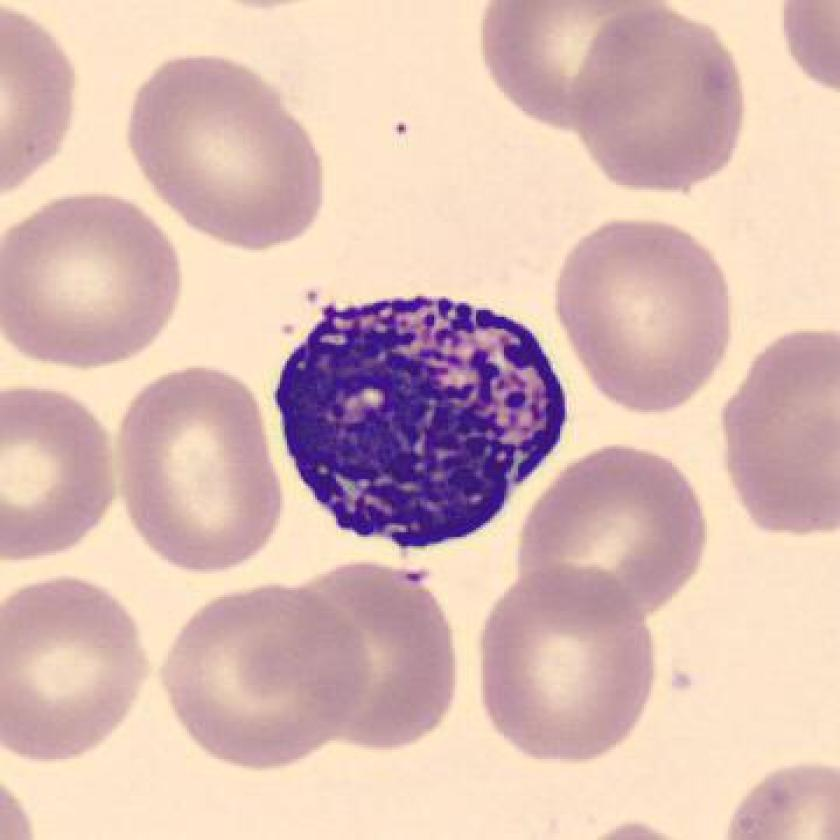basophil: (267, 300, 582, 564)
